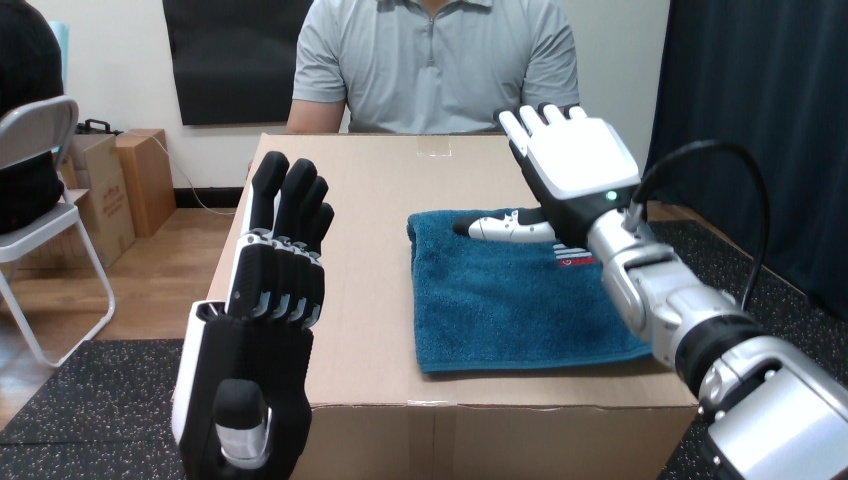left robot hand: (454, 105, 847, 478), (172, 151, 333, 478), (645, 150, 762, 304)
